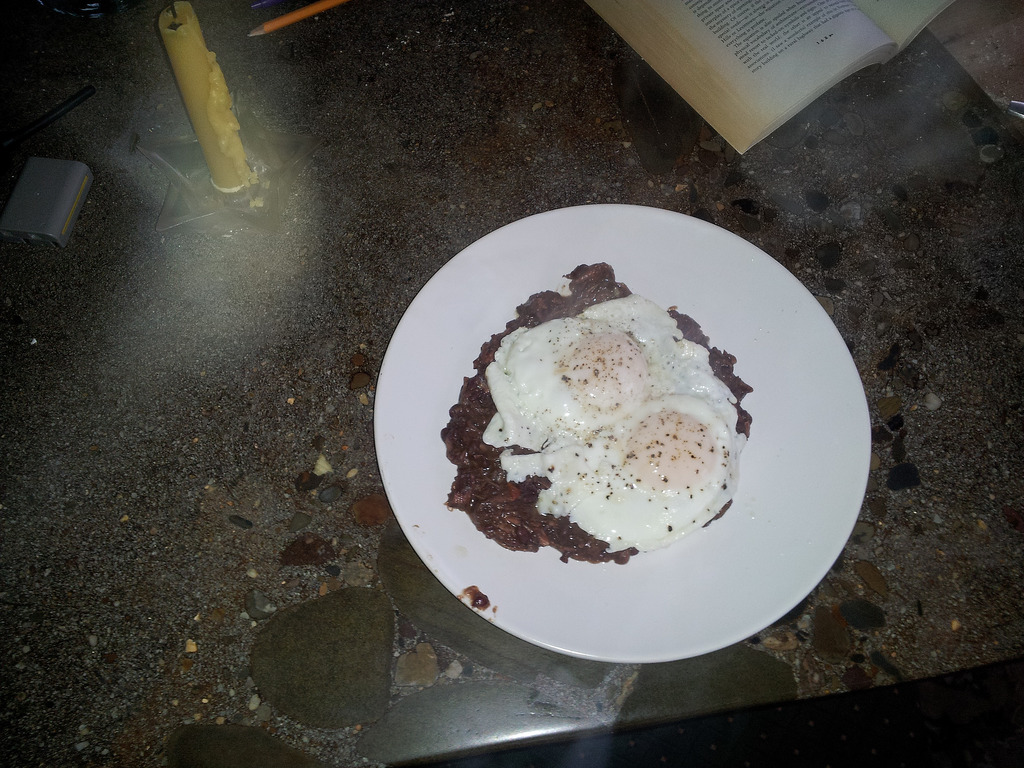fried egg: (555, 390, 737, 543), (486, 307, 682, 448)
